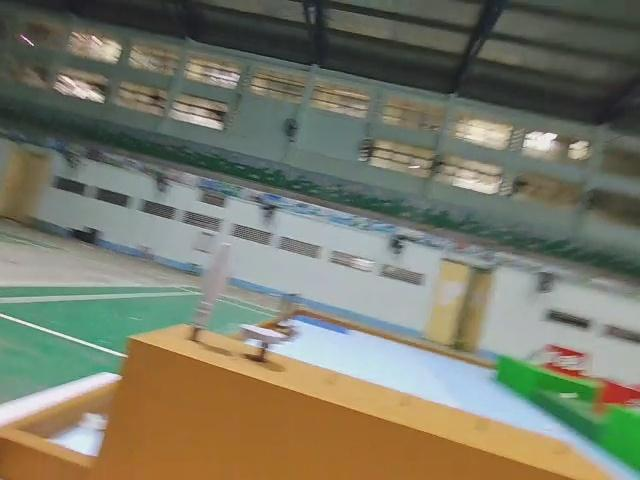Hand: (243, 322, 287, 362)
Sph: (187, 241, 227, 342)
